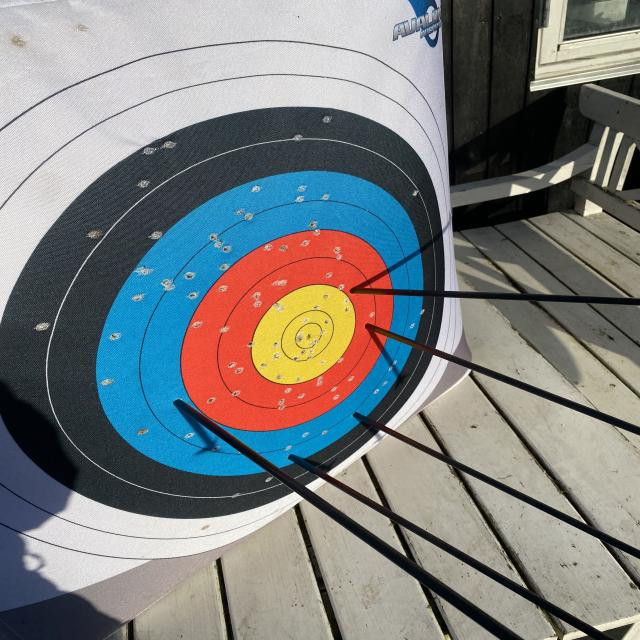Arrow_Blue: (161, 392, 201, 417), (283, 444, 309, 470), (347, 406, 375, 428)
Arrow_Red: (358, 314, 383, 342), (347, 280, 372, 301)
